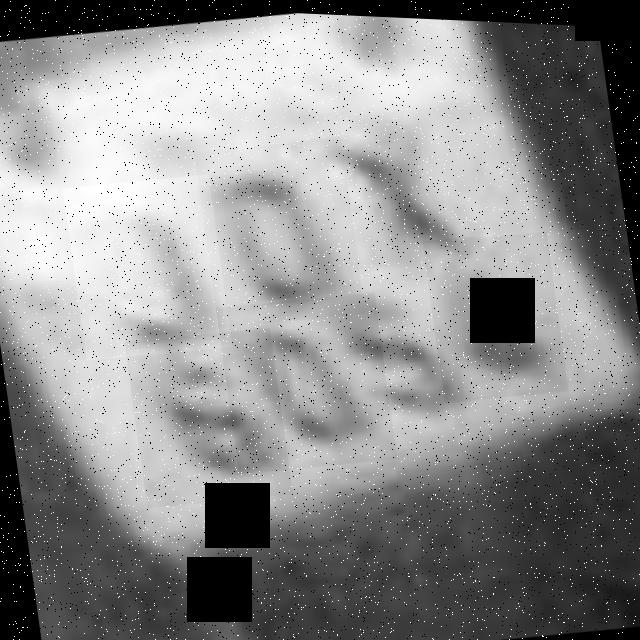0: (216, 284, 398, 478)
4: (423, 222, 569, 403)
5: (124, 320, 294, 512), (326, 265, 468, 434)
O: (194, 130, 366, 331), (62, 167, 232, 365)
T: (306, 97, 480, 283)
